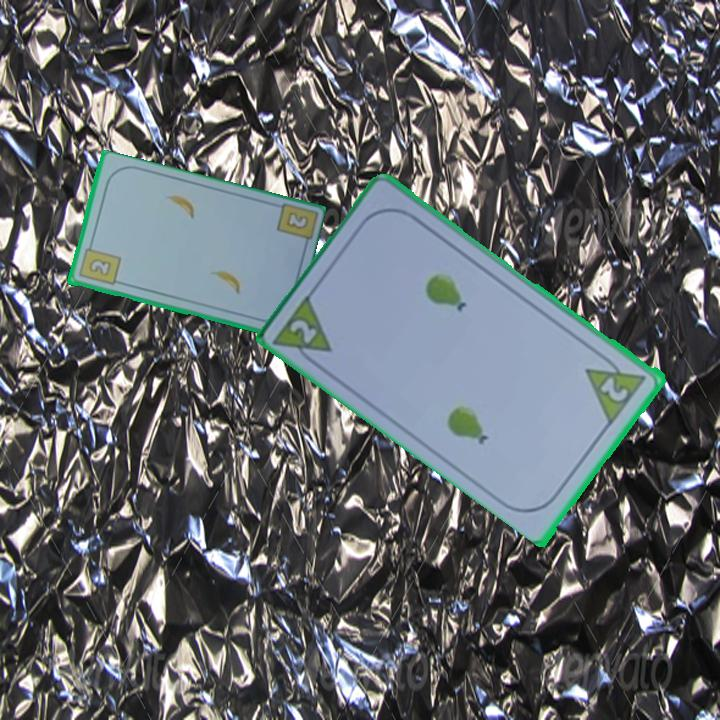2b: (75, 239, 123, 289), (282, 208, 311, 232)
2p: (582, 348, 651, 426), (286, 315, 321, 347)
